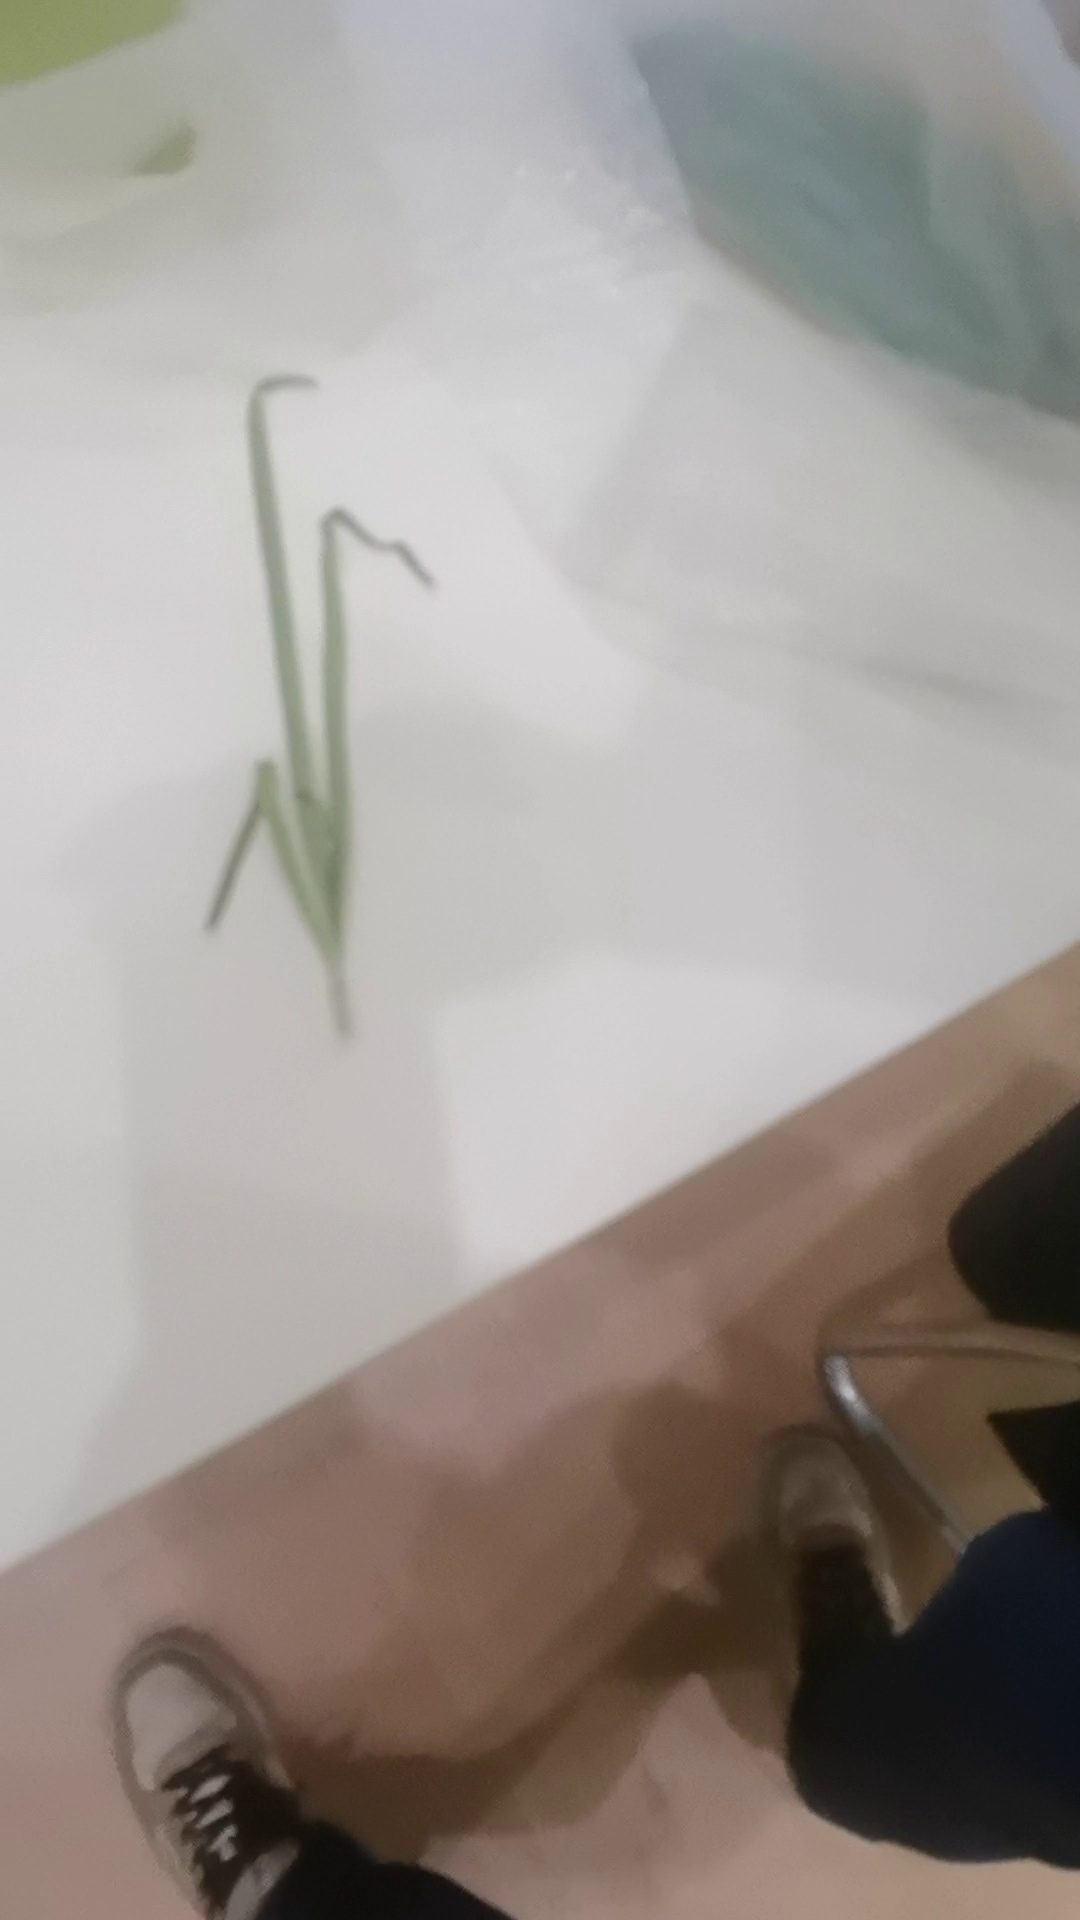chives: (177, 360, 467, 1077)
